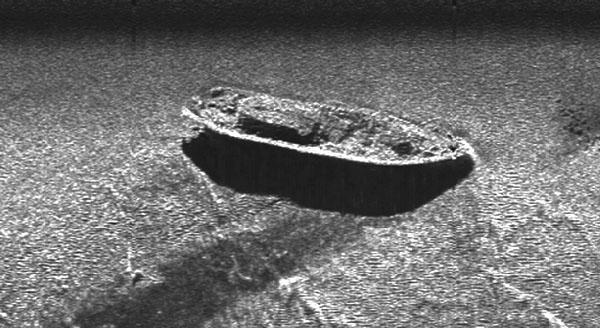ship: (180, 83, 479, 169)
